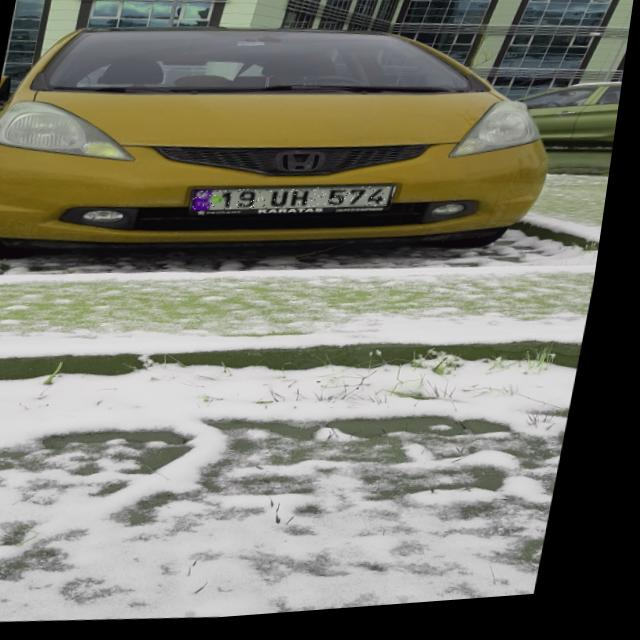license_plate: (194, 182, 402, 225)
